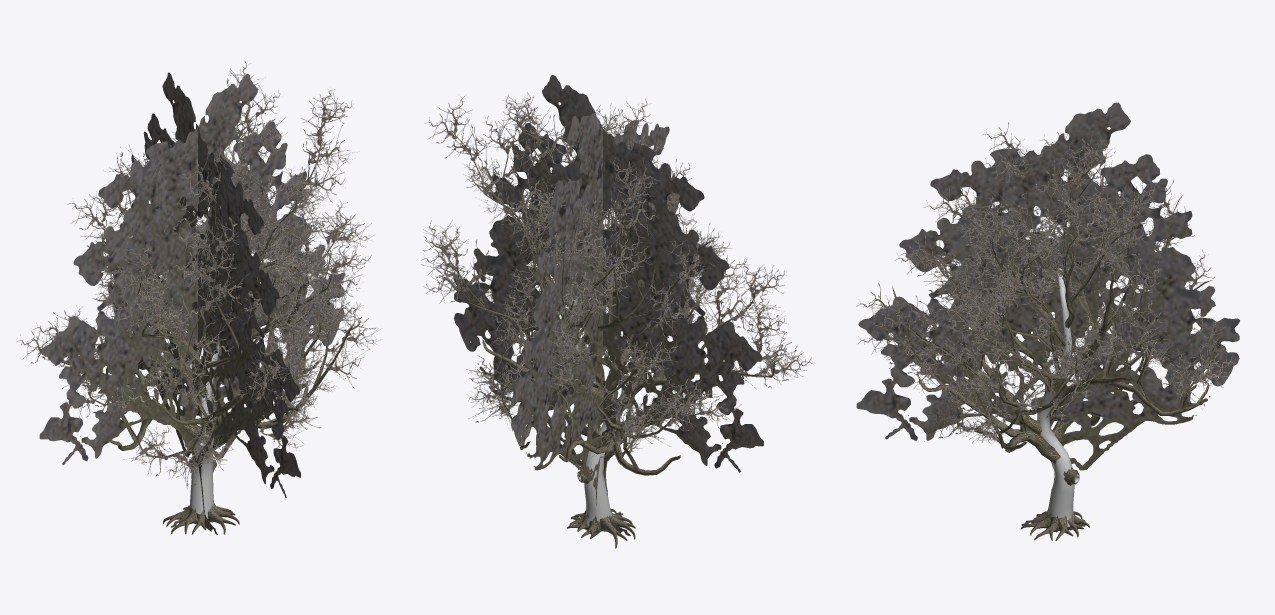
File: Tree-Oak5D.fbx
3 renders of one model, left to right at view 1: azimuth 30°, elevation 25°; view 2: azimuth 150°, elevation 25°; view 3: azimuth 270°, elevation 25°, orthographic. The views are drawn at different scales.
Visible parts, largest first — view 1: Billboard-Oak5D, Tree-Oak5D_LOD0; view 2: Billboard-Oak5D, Tree-Oak5D_LOD0; view 3: Billboard-Oak5D, Tree-Oak5D_LOD0.
Part boxes in pixels (left/top/right/bottom): Billboard-Oak5D: left=39, top=72, right=344, bottom=534; Tree-Oak5D_LOD0: left=16, top=60, right=380, bottom=534; Billboard-Oak5D: left=454, top=74, right=763, bottom=539; Tree-Oak5D_LOD0: left=421, top=92, right=814, bottom=548; Billboard-Oak5D: left=856, top=102, right=1239, bottom=526; Tree-Oak5D_LOD0: left=856, top=122, right=1234, bottom=540.
Size of what is drawn, in the model's own units: 2763 by 3401 by 2886.
